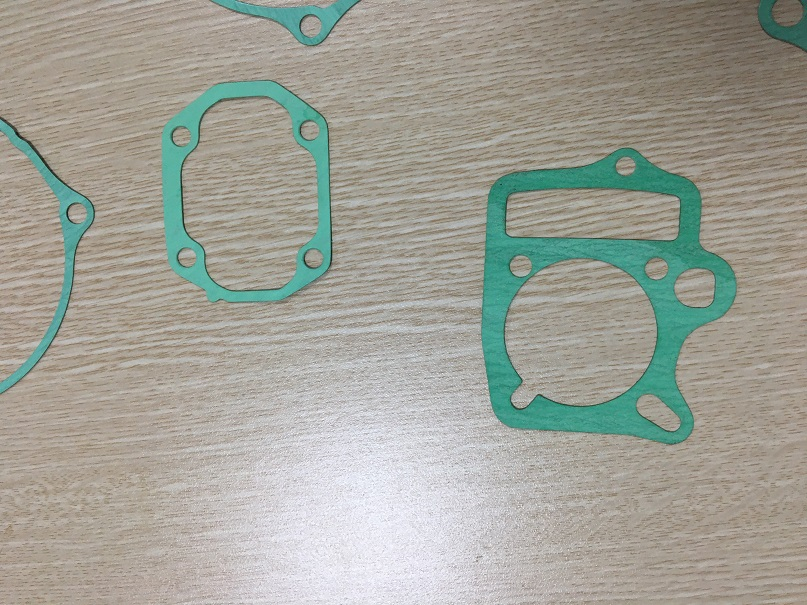type2: (154, 76, 338, 315)
type4: (459, 124, 746, 457)
